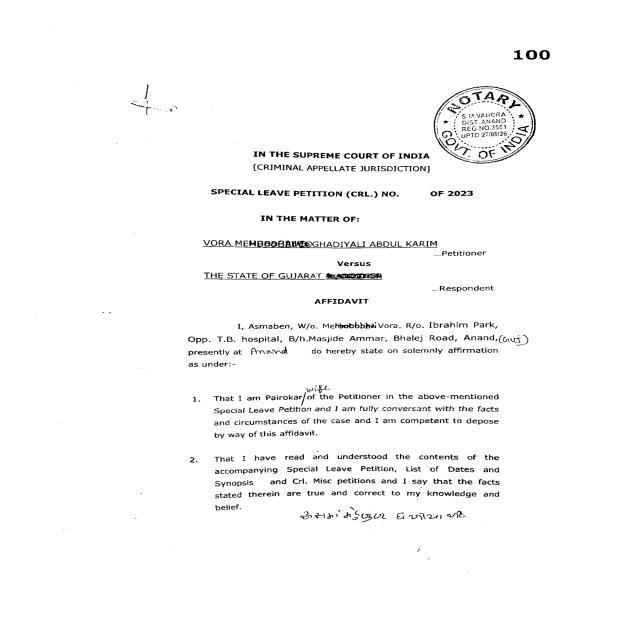page-number: (425, 0, 640, 72)
